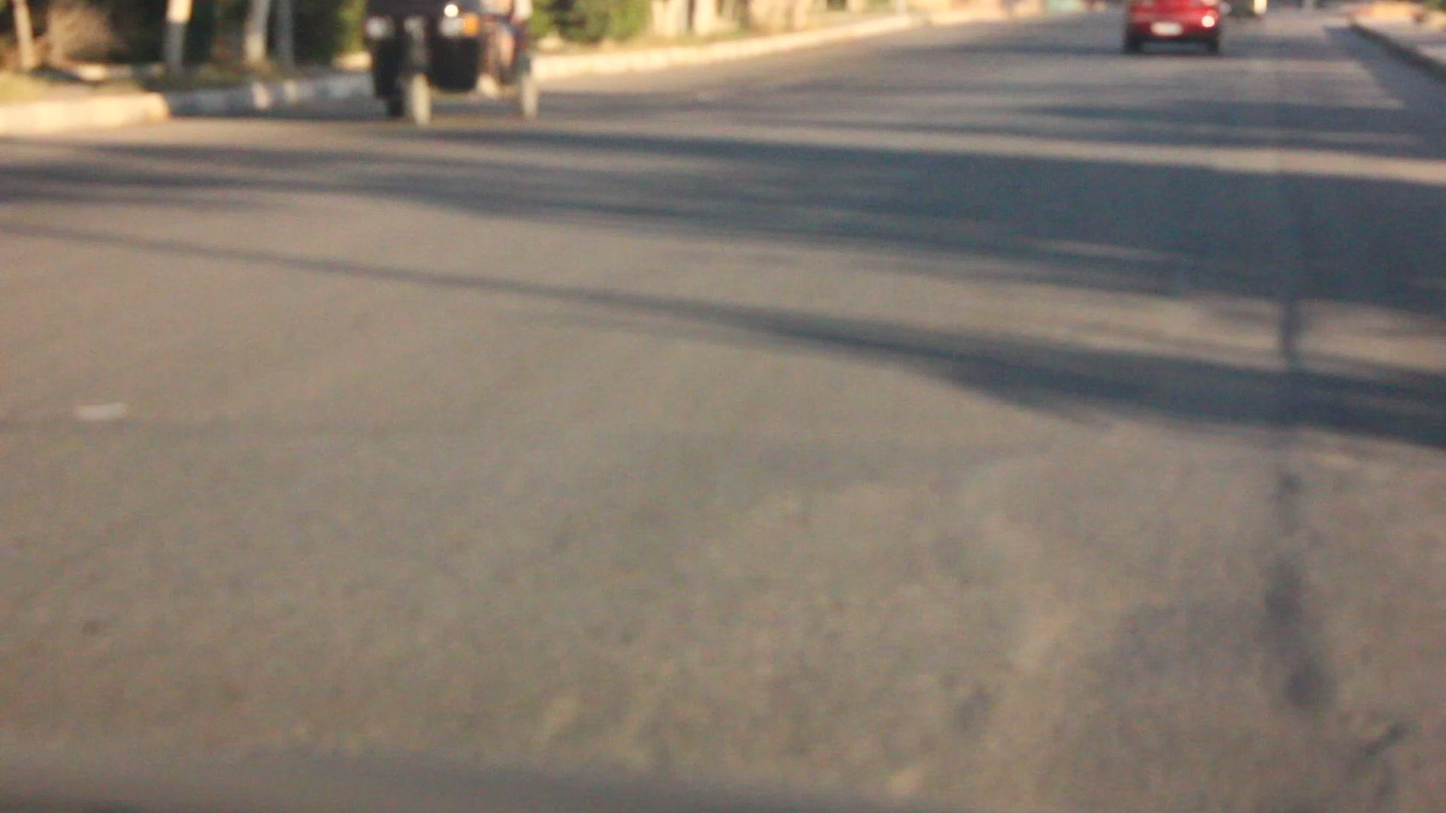Pothole: (998, 429, 1267, 813)
